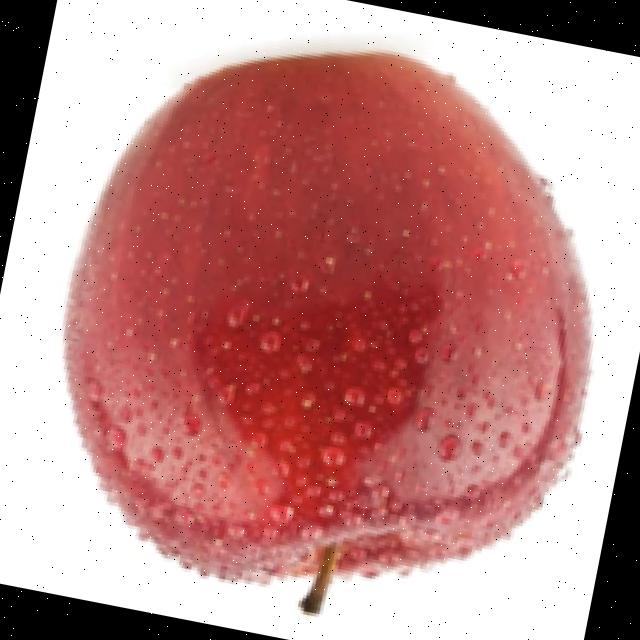apple: (58, 31, 597, 621)
